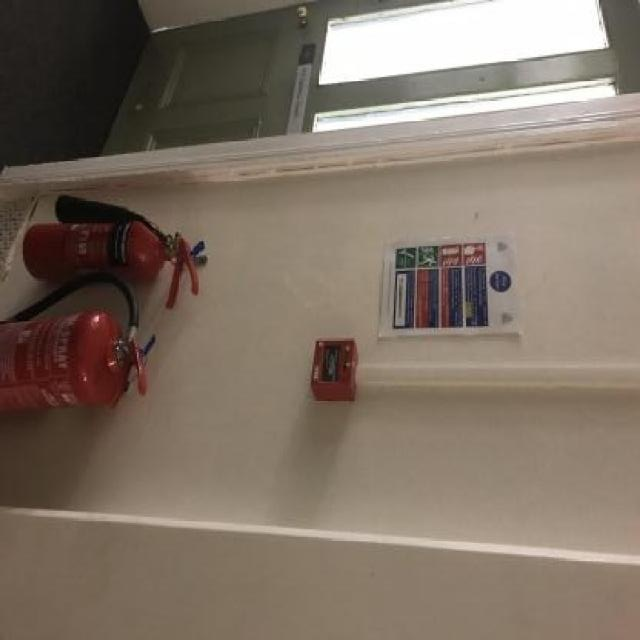fire extinguisher: (23, 200, 200, 309), (0, 288, 145, 412)
